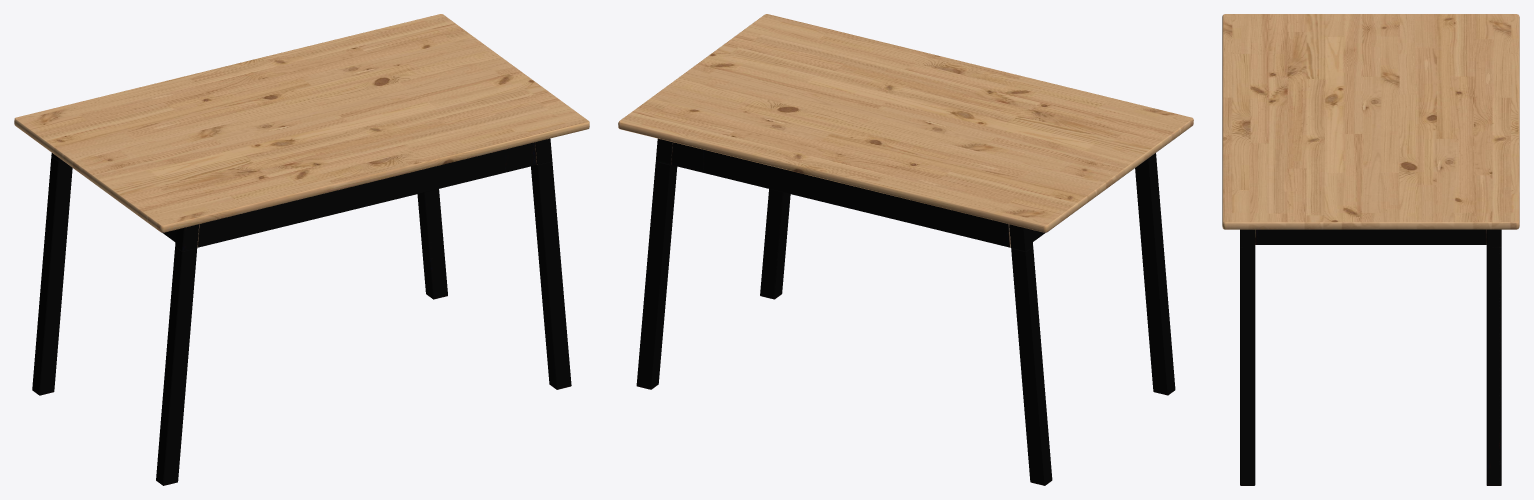
File: pinntorp_sto_40639267.glb
The picture shows the model from 3 angles, left to right: view 1: azimuth 30°, elevation 25°; view 2: azimuth 150°, elevation 25°; view 3: azimuth 270°, elevation 25°; orthographic projection.
Visible parts, largest first — view 1: pinntorp_sto_40639267; view 2: pinntorp_sto_40639267; view 3: pinntorp_sto_40639267.
Boxes of the visible parts, x1,y1,x2,y2 form: pinntorp_sto_40639267: (14,14,589,485); pinntorp_sto_40639267: (618,14,1193,485); pinntorp_sto_40639267: (1222,14,1519,485).
Bounding box in the file's own units: 1.25 × 0.747 × 0.7506.
1 material, 1 textured.
